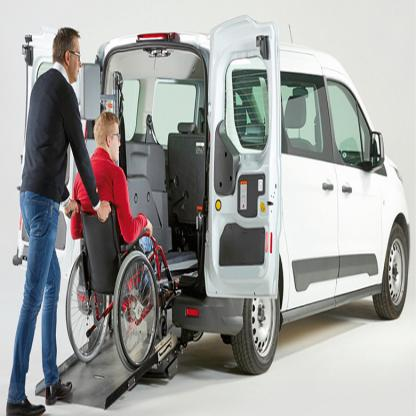wheelchair: (66, 110, 179, 367)
